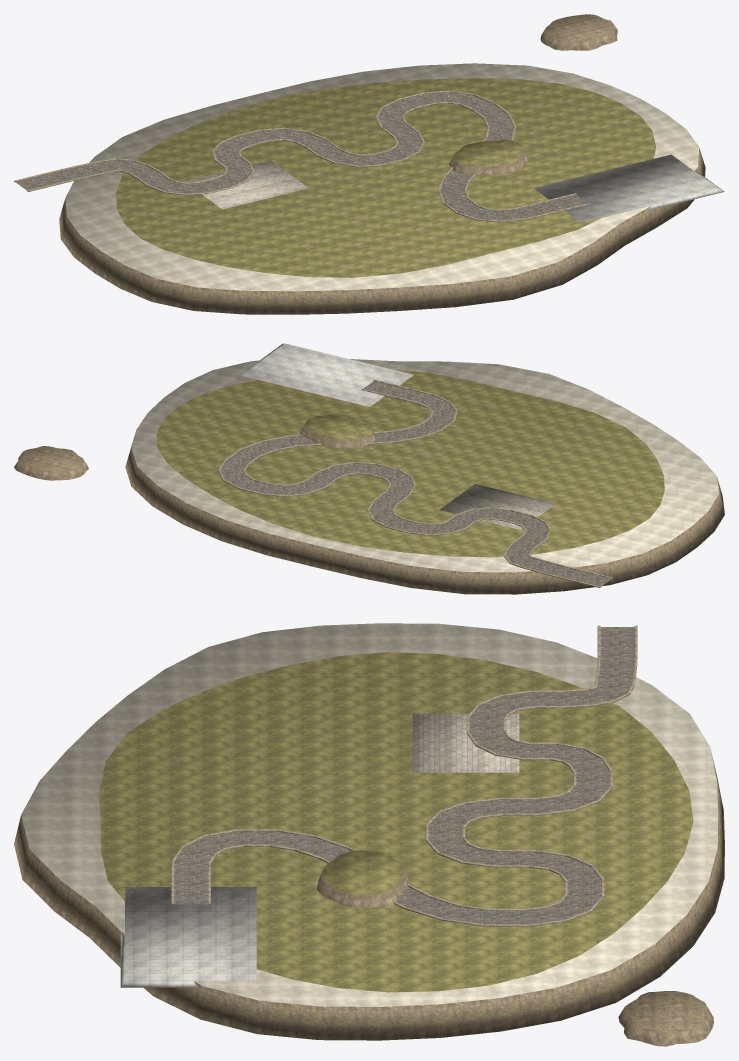
The model's file is 01_ZatokaPireusu_teren.glb.
The picture shows the model from 3 angles, top to bottom: view 1: azimuth 30°, elevation 25°; view 2: azimuth 150°, elevation 25°; view 3: azimuth 270°, elevation 25°; orthographic projection. The views are drawn at different scales.
Visible parts, largest first — view 1: grass, beach, path_0, temple_square, agora, plateau, islet; view 2: grass, beach, path_0, temple_square, agora, plateau, islet; view 3: grass, beach, path_0, temple_square, agora, plateau, islet.
Boxes of the visible parts, bbox=[...] form: grass: bbox=[116, 78, 655, 277]; beach: bbox=[59, 63, 705, 314]; path_0: bbox=[15, 92, 587, 220]; temple_square: bbox=[534, 154, 724, 222]; agora: bbox=[184, 160, 308, 209]; plateau: bbox=[449, 139, 529, 175]; islet: bbox=[540, 14, 617, 50]; grass: bbox=[156, 370, 664, 557]; beach: bbox=[125, 359, 724, 594]; path_0: bbox=[220, 381, 611, 586]; temple_square: bbox=[241, 343, 413, 406]; agora: bbox=[439, 484, 555, 529]; plateau: bbox=[299, 414, 375, 448]; islet: bbox=[14, 446, 88, 480]; grass: bbox=[98, 652, 693, 992]; beach: bbox=[14, 623, 724, 1040]; path_0: bbox=[174, 627, 634, 924]; temple_square: bbox=[120, 887, 256, 987]; agora: bbox=[412, 713, 519, 772]; plateau: bbox=[317, 850, 409, 908]; islet: bbox=[618, 991, 713, 1046].
Size of what is drawn, in the model's own units: 244 by 11 by 173.
7 materials, 7 textured.
